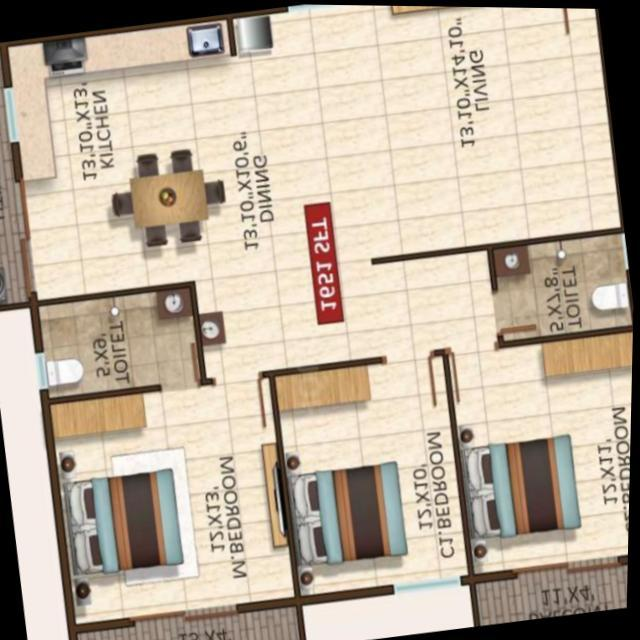Balcony-Sitout: (476, 564, 630, 625), (88, 608, 304, 640)
Bedroom: (277, 351, 467, 591), (455, 326, 634, 568)
Bedroom with Toilet: (36, 286, 297, 622)
Dining: (98, 140, 237, 257)
Enterance-Foyer: (507, 6, 572, 63)
Kitchen: (4, 5, 295, 184)
Living: (287, 4, 619, 262)
Toilet: (42, 288, 202, 397), (499, 236, 632, 334)
Utility: (0, 43, 33, 301)
